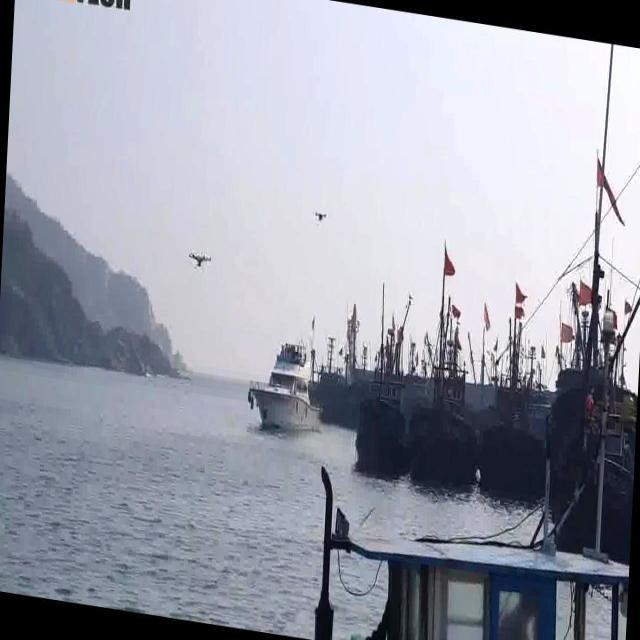drone: (180, 234, 216, 282), (310, 202, 330, 228)
